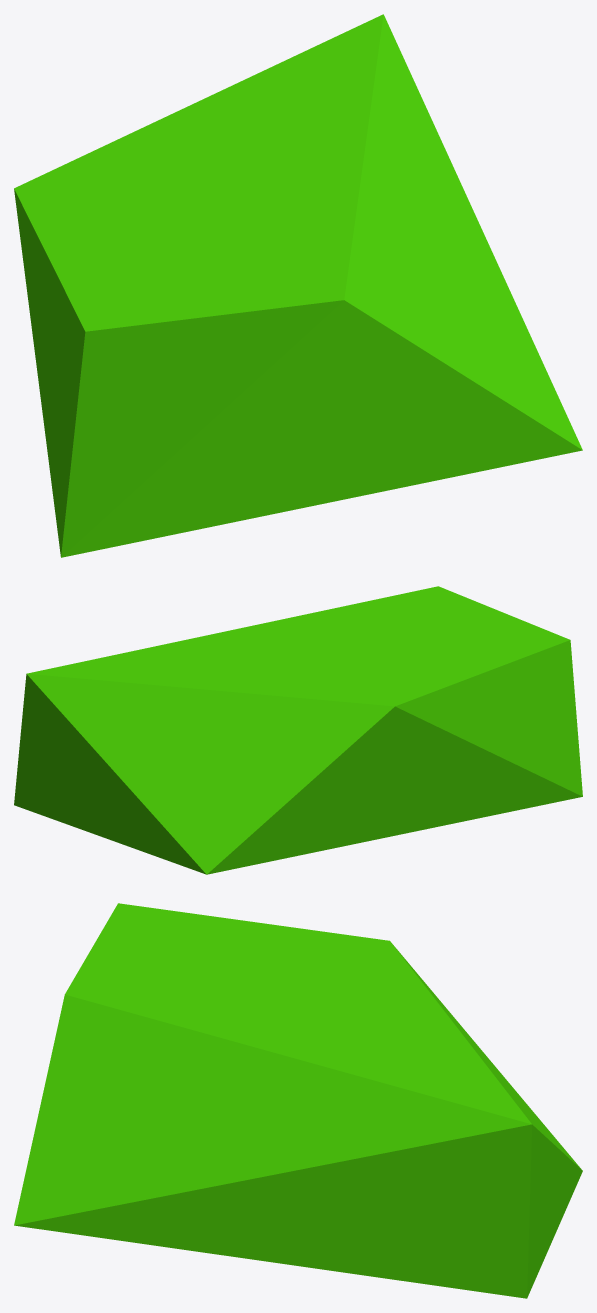
The model's file is coffee_convex_piece_021.obj.
3 views of the same model, one above another, from view 1: azimuth 30°, elevation 25°; view 2: azimuth 150°, elevation 25°; view 3: azimuth 270°, elevation 25° (orthographic). The views are drawn at different scales.
Size of the model in its own units: 0.000222 by 8e-05 by 0.000224.
